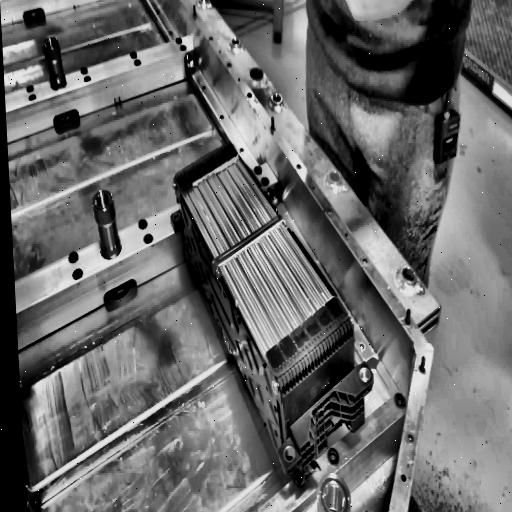battery_module: (172, 142, 374, 493)
